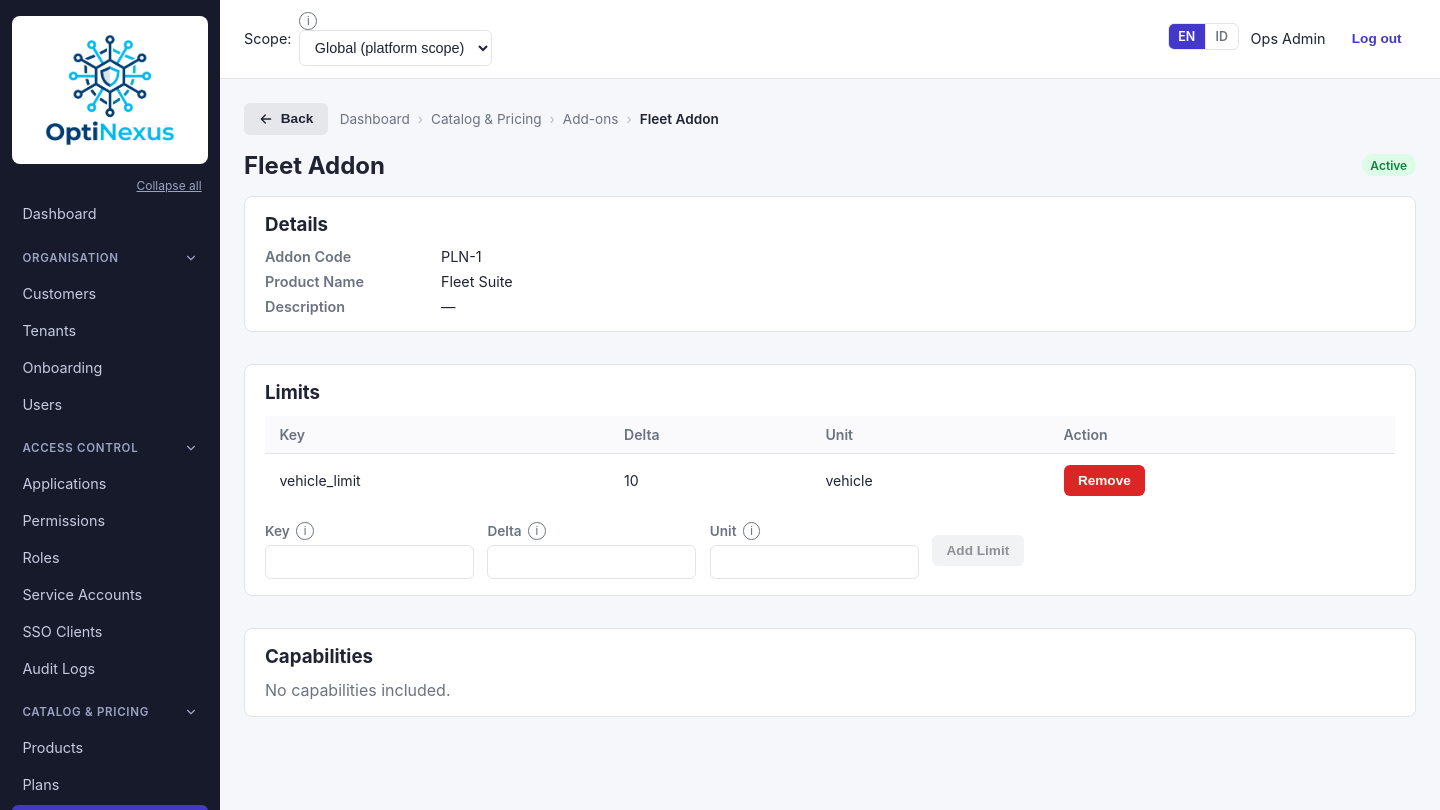
Test: shows the product name and removes a limit after confirmation, then refreshes the list
Expected: the text "Fleet Suite" is shown, [441, 273, 513, 290]
Click the button with aria-label "Remove limit vehicle_limit". click: (1104, 480)
box: [1064, 465, 1145, 496]
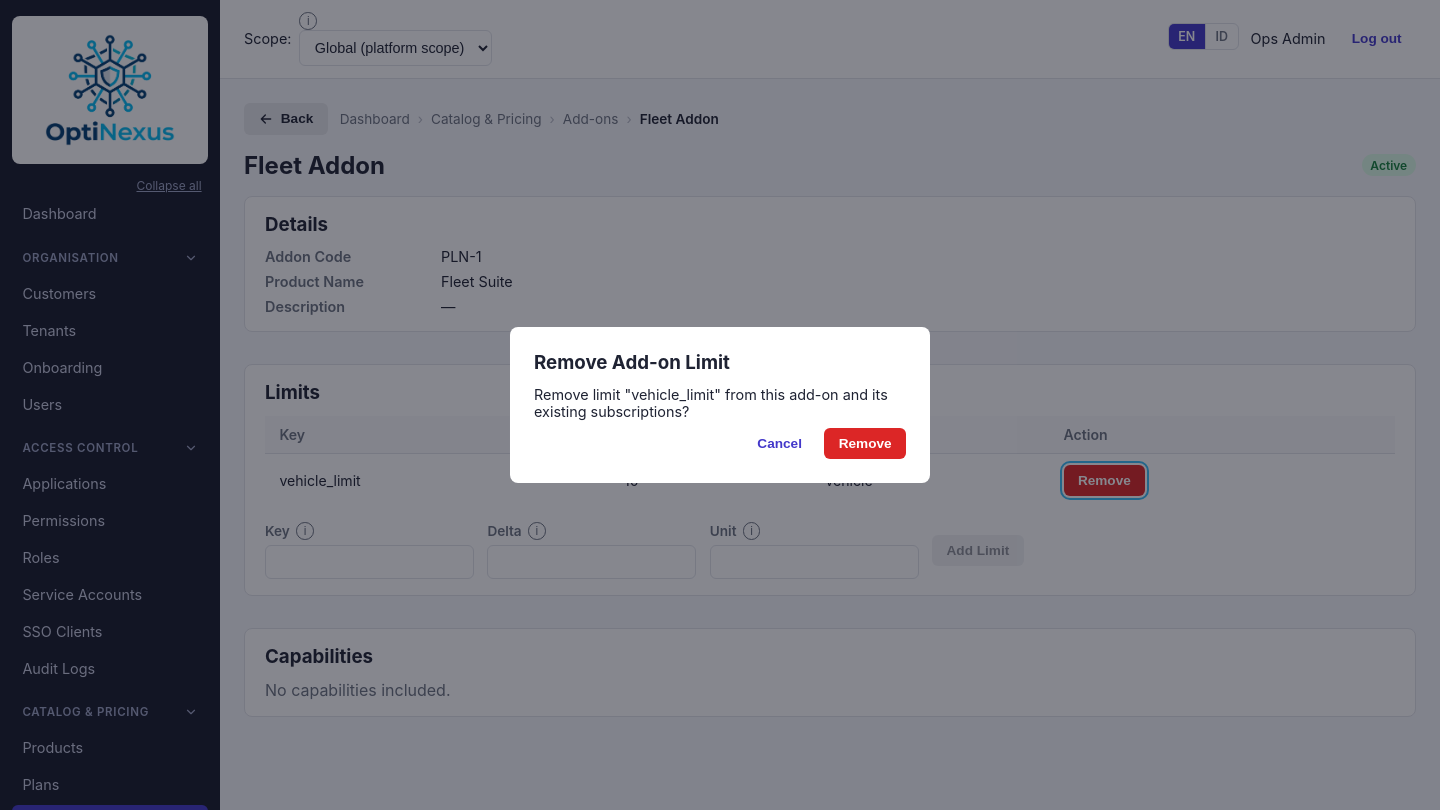
Click the button "Remove". click: (865, 444)
box: [824, 428, 906, 459]
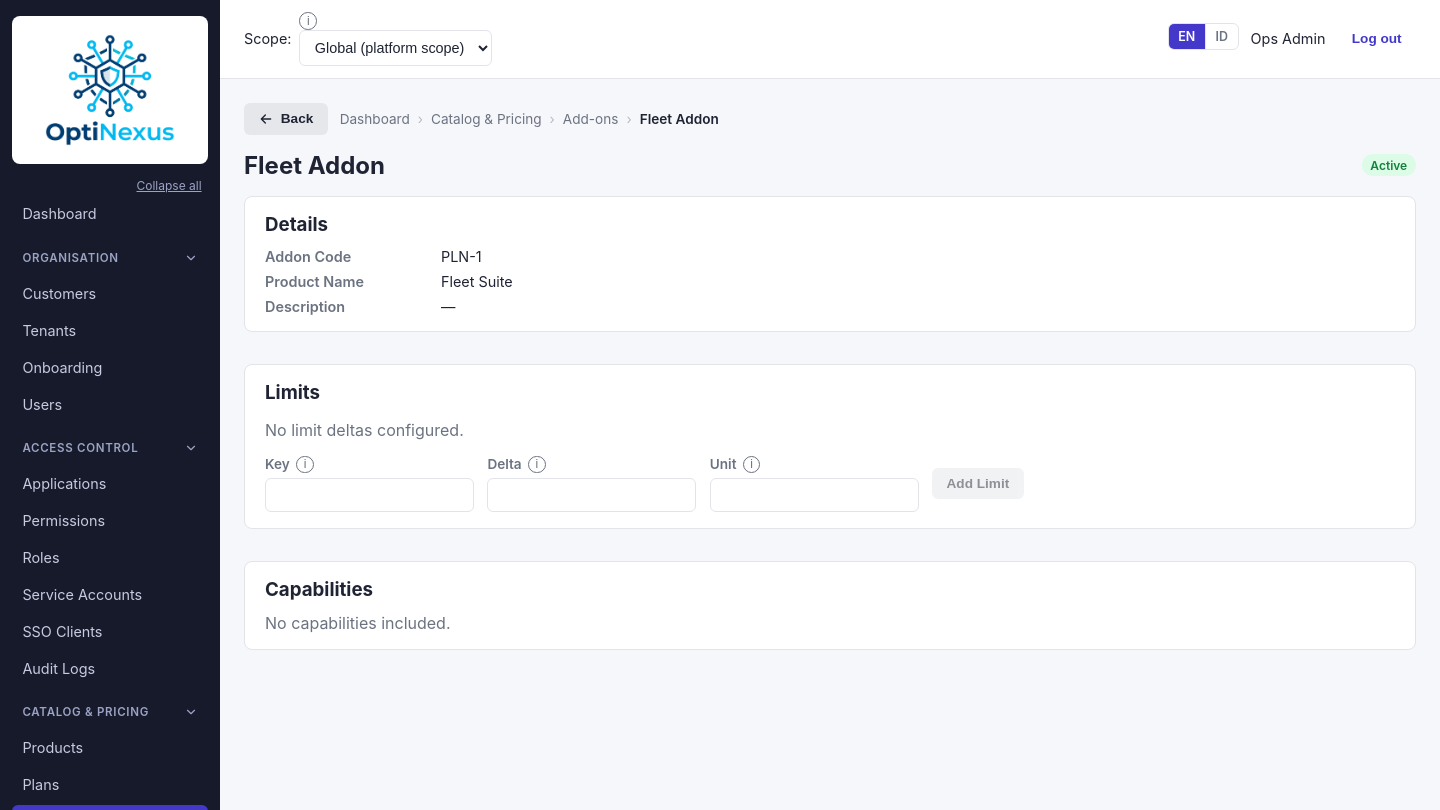
Expected: the text "No limit deltas configured." is shown, [265, 420, 464, 440]
